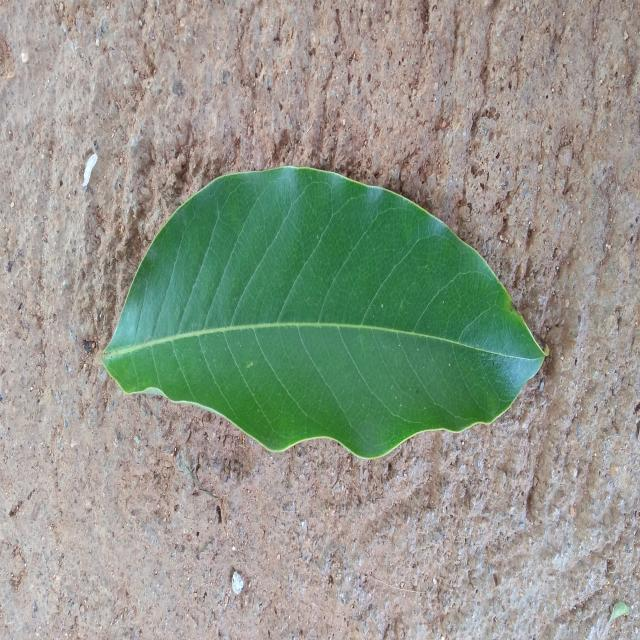sampige: (102, 167, 545, 458)
